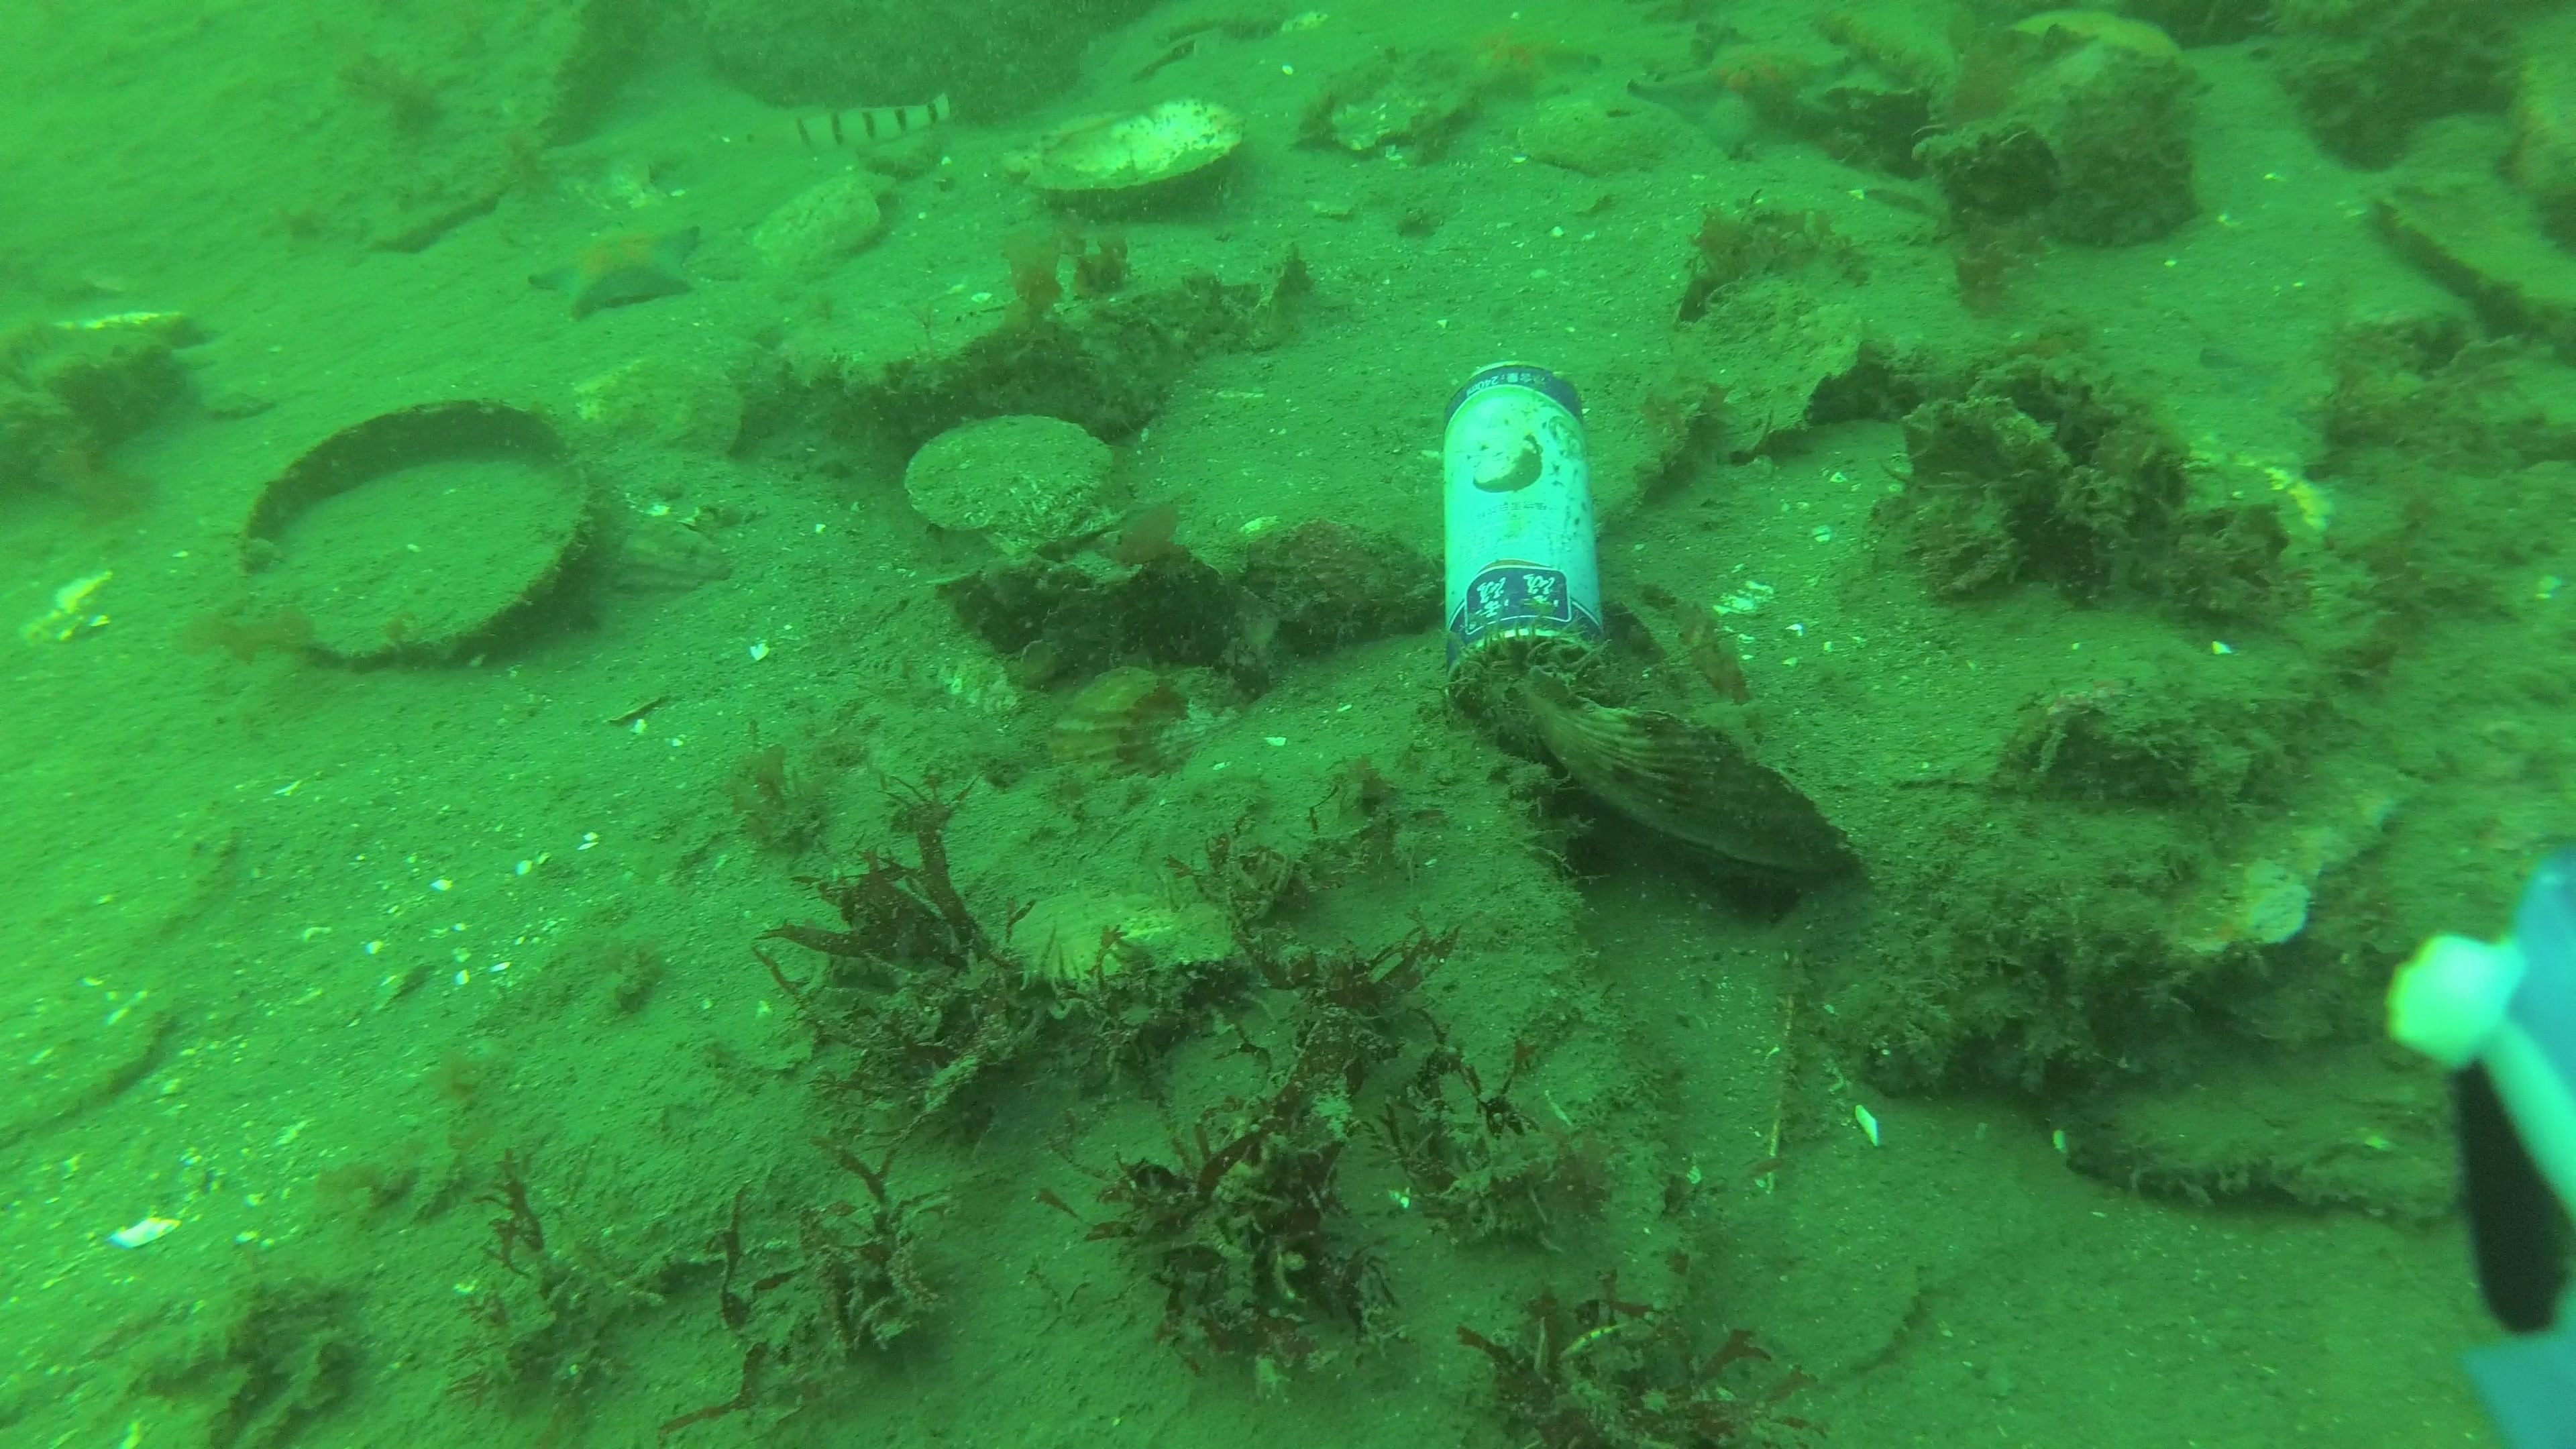scallop: (1513, 702, 1851, 895), (904, 419, 1123, 556), (1008, 883, 1244, 989), (1044, 665, 1205, 810), (575, 357, 747, 462), (748, 182, 885, 280)
starfish: (1633, 30, 1852, 149), (531, 221, 706, 322)
